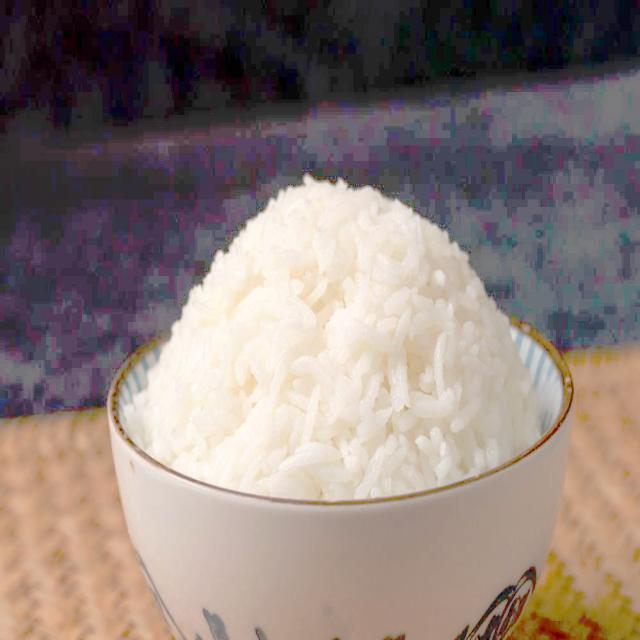rice: (140, 174, 540, 498)
